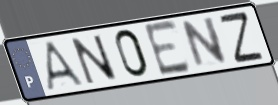0: (113, 28, 151, 80)
A: (43, 39, 87, 93)
E: (141, 17, 194, 79)
N: (180, 15, 230, 71), (69, 33, 121, 86)
Z: (217, 9, 267, 66)
